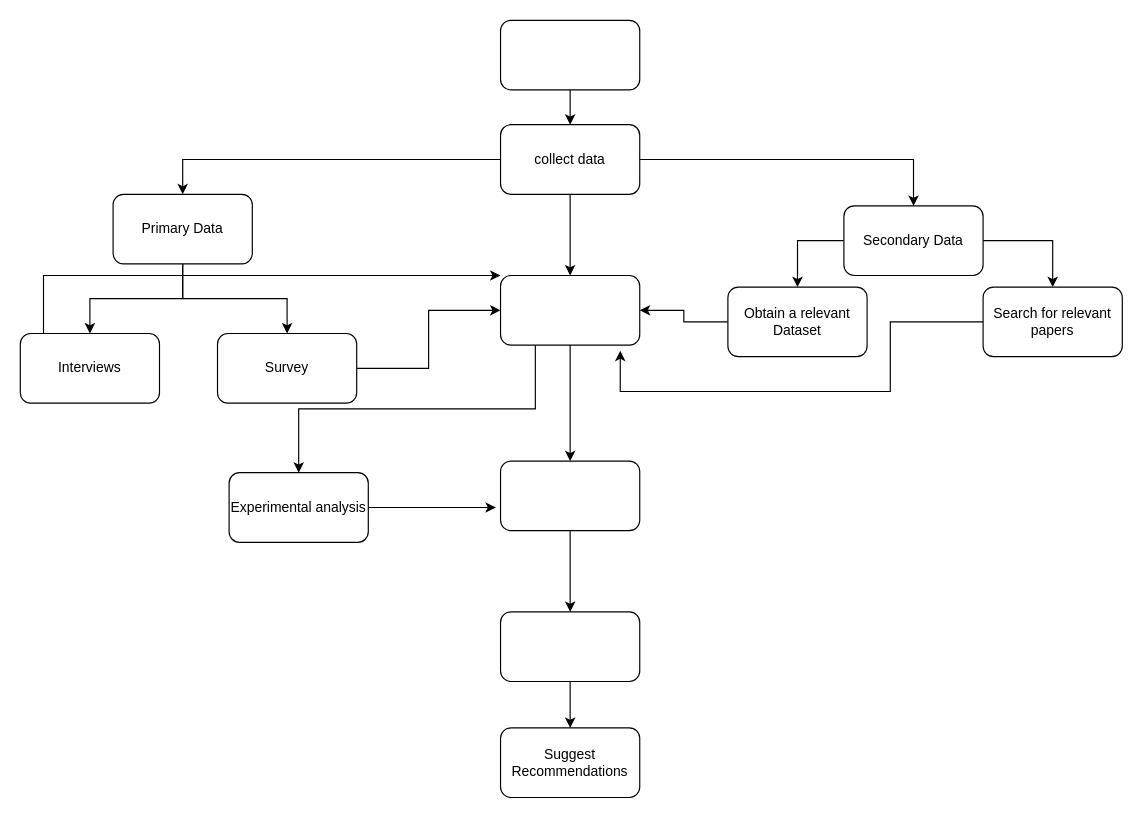
Image size: 1143x818. Some labels were removed from this diagram. The centre of each missing label's shape, as x and y in pixels:
Analyze Data: point 569,309
Choosing a research topic: point 569,54
Derive Conclusions: point 569,646
Get the result of the Analysis with discussion: point 569,495
